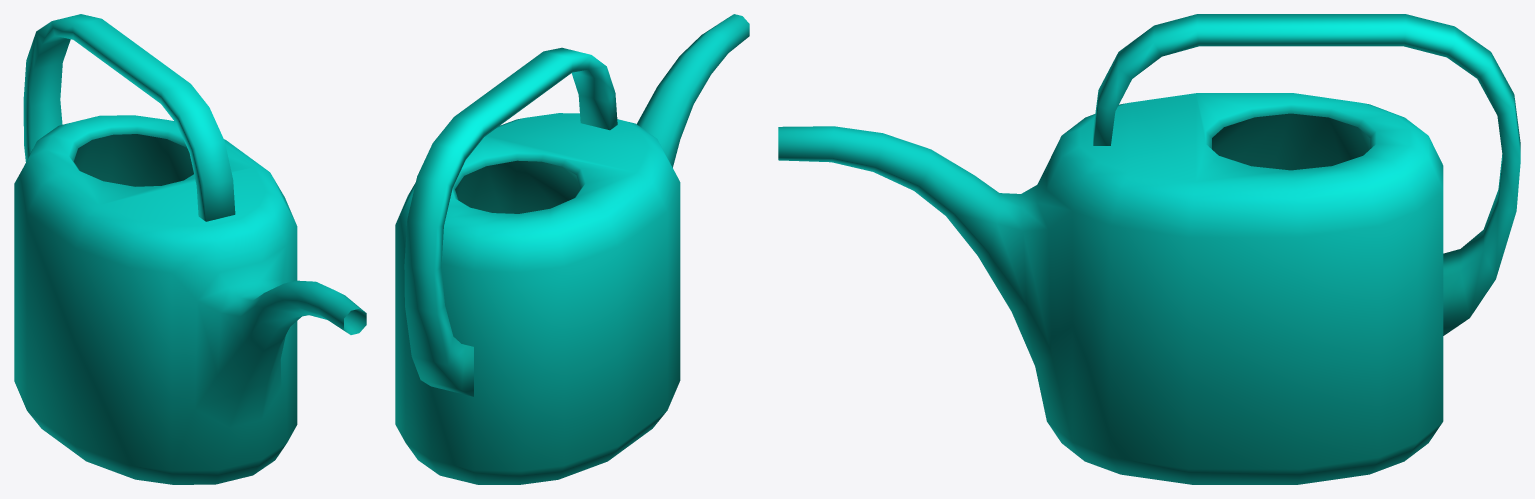
Rendered from wateringCan.fbx.
3 views of the same model, side by side, from view 1: azimuth 30°, elevation 25°; view 2: azimuth 150°, elevation 25°; view 3: azimuth 270°, elevation 25° (orthographic). The views are drawn at different scales.
Visible parts, largest first — view 1: wateringCan; view 2: wateringCan; view 3: wateringCan.
Part boxes in pixels (<box>): wateringCan: <box>14,14,366,484</box>; wateringCan: <box>395,14,749,484</box>; wateringCan: <box>778,14,1520,484</box>.
Bounding box in the file's own units: 15.41 × 24.6 × 40.37.
